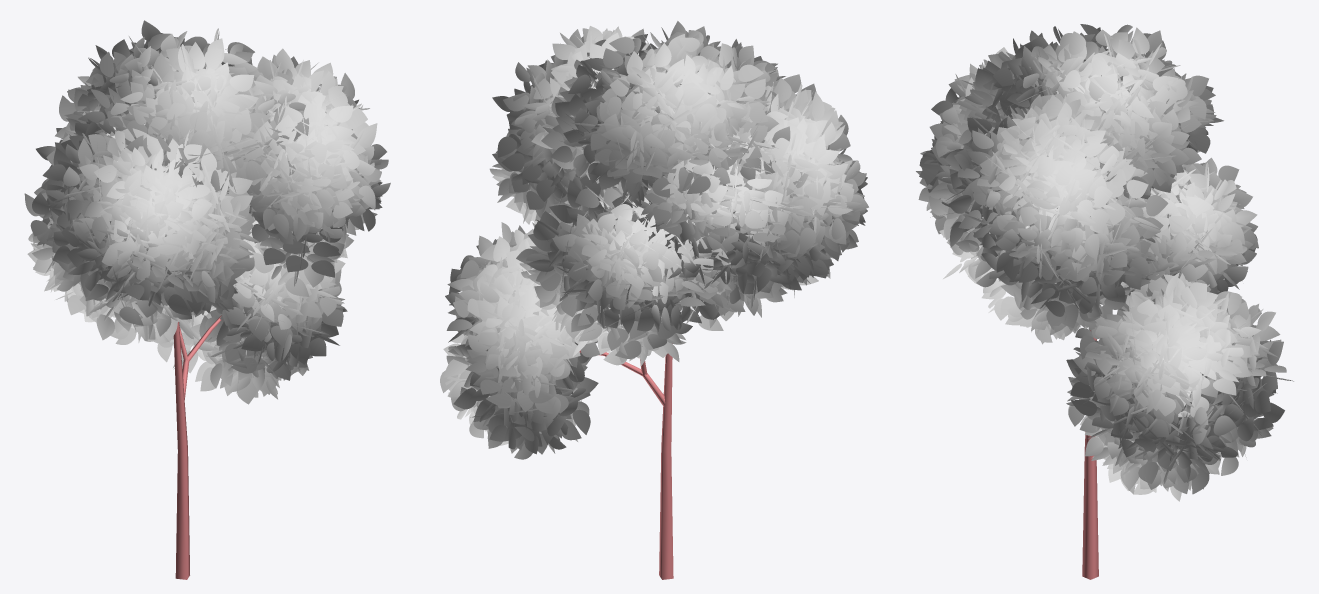
File: Drzewko2_LOD0.fbx
The picture shows the model from 3 angles, left to right: view 1: azimuth 30°, elevation 25°; view 2: azimuth 150°, elevation 25°; view 3: azimuth 270°, elevation 25°; orthographic projection.
Parts seen in each view (by area): view 1: Leaf.001, tree.001; view 2: Leaf.001, tree.001; view 3: Leaf.001, tree.001.
Boxes of the visible parts, x1,y1,x2,y2 form: Leaf.001: [24, 20, 390, 404]; tree.001: [173, 315, 221, 579]; Leaf.001: [440, 21, 868, 459]; tree.001: [579, 343, 673, 579]; Leaf.001: [916, 24, 1293, 501]; tree.001: [1082, 330, 1098, 579].
Size of the model in its own units: 480 by 511 by 729.
